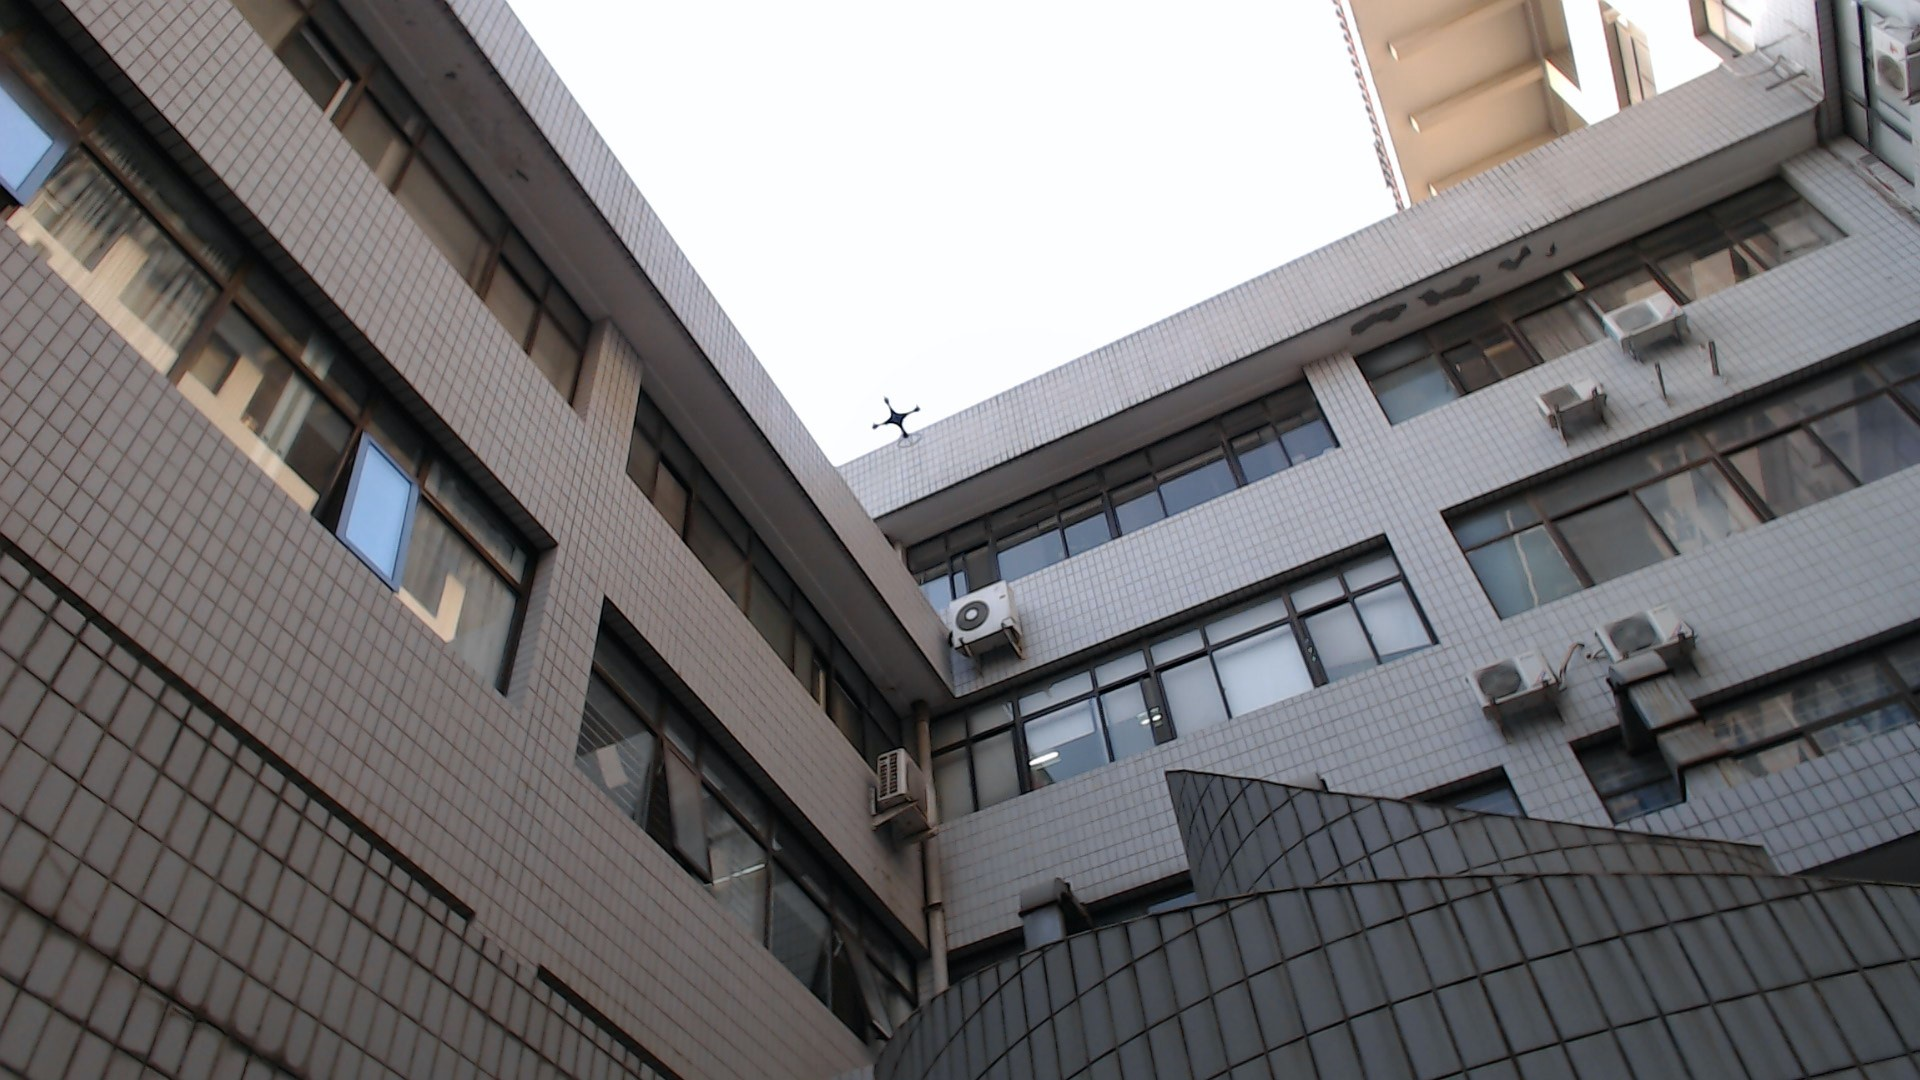drone: (833, 375, 967, 465)
